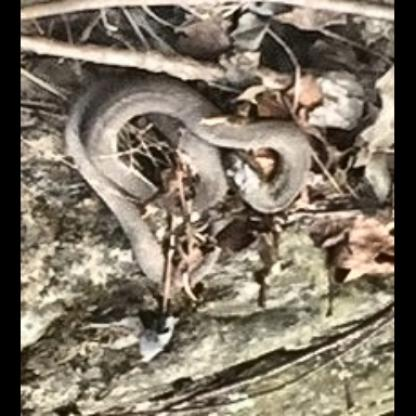Snake: (34, 58, 373, 308)
